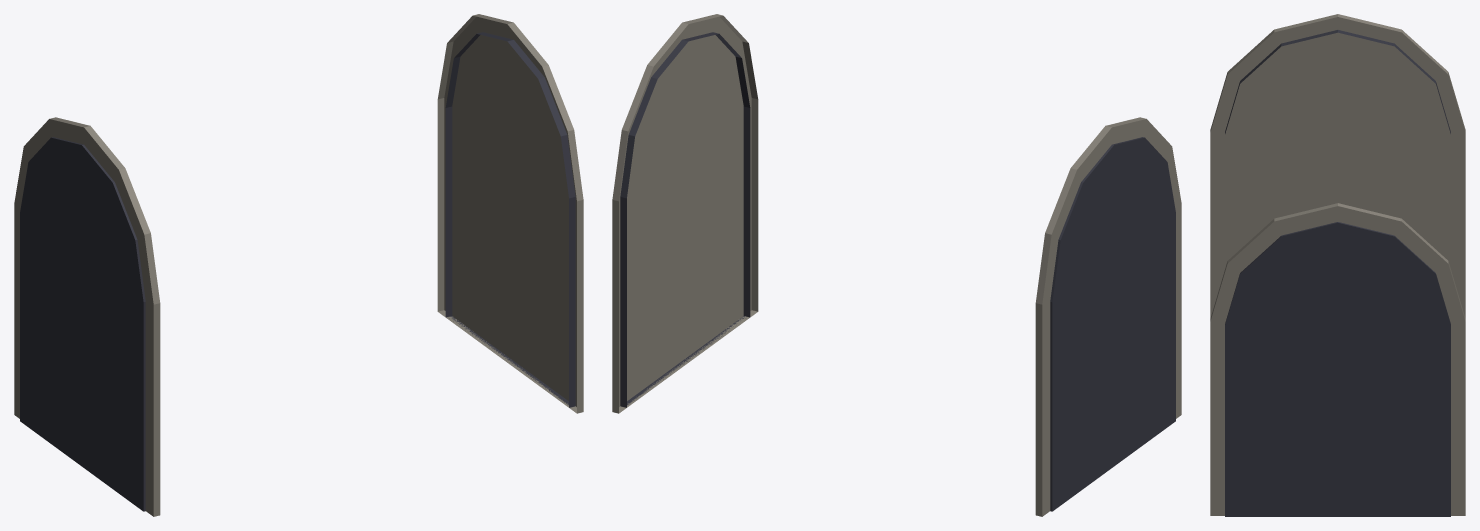
Rendered from FortifiedGate1-Passage.fbx.
The picture shows the model from 3 angles, left to right: view 1: azimuth 30°, elevation 25°; view 2: azimuth 150°, elevation 25°; view 3: azimuth 270°, elevation 25°; orthographic projection. The views are drawn at different scales.
Visible parts, largest first — view 1: FortifiedGate1-Passage; view 2: FortifiedGate1-Passage; view 3: FortifiedGate1-Passage.
Boxes of the visible parts, x1,y1,x2,y2 form: FortifiedGate1-Passage: (14, 14, 583, 516); FortifiedGate1-Passage: (612, 14, 1181, 516); FortifiedGate1-Passage: (1210, 14, 1465, 516).
Size of the model in its own units: 0.792 by 0.59 by 0.44.
